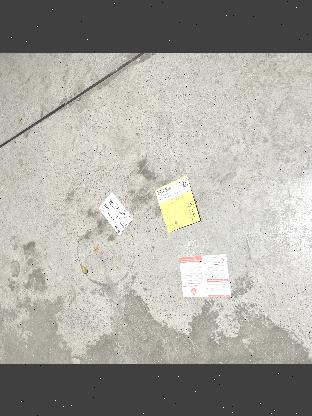Others: (175, 248, 231, 308), (152, 170, 201, 238), (97, 188, 141, 237)
